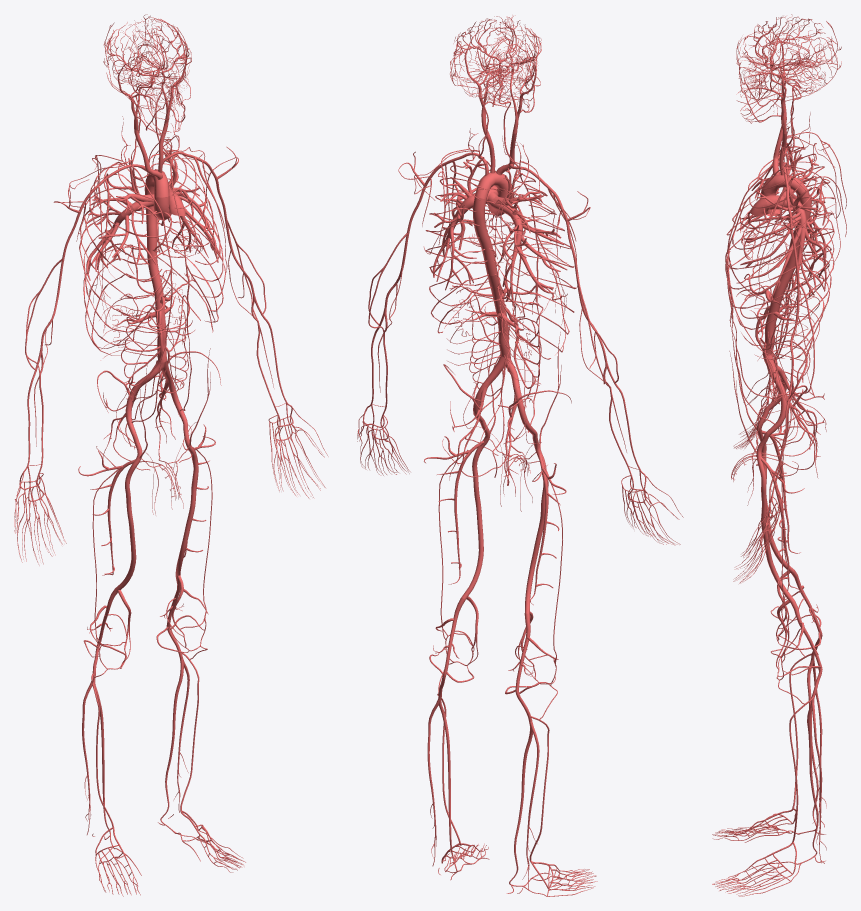
The model's file is arteries.glb.
3 views of the same model, side by side, from view 1: azimuth 30°, elevation 25°; view 2: azimuth 150°, elevation 25°; view 3: azimuth 270°, elevation 25° (orthographic). The views are drawn at different scales.
Visible parts, largest first — view 1: Posterior intercostal arteries.r.001, Posterior intercostal arteries.l.001, Femoral artery.r.001, Femoral artery.l.001, Abdominal aorta.001, Thoracic aorta.001; view 2: Posterior intercostal arteries.r.001, Posterior intercostal arteries.l.001, Femoral artery.l.001, Thoracic aorta.001, Femoral artery.r.001, Abdominal aorta.001; view 3: Posterior intercostal arteries.l.001, Femoral artery.l.001, Posterior intercostal arteries.r.001, Abdominal aorta.001, Femoral artery.r.001, Aortic arch.001, Posterior tibial artery.l.001, Brachial artery.l.001, Lateral basal segmental artery of left lung.001, Fibular artery.l.001, Posterior tibial artery.r.001, Proper palmar digital arteries.l.001 (+14 smaller).
Boxes of the visible parts, x1=… form: Posterior intercostal arteries.r.001: x1=79, y1=163, x2=169, y2=355; Posterior intercostal arteries.l.001: x1=146, y1=153, x2=225, y2=332; Femoral artery.r.001: x1=114, y1=432, x2=142, y2=592; Femoral artery.l.001: x1=175, y1=420, x2=198, y2=577; Abdominal aorta.001: x1=148, y1=263, x2=166, y2=362; Thoracic aorta.001: x1=144, y1=180, x2=157, y2=264; Posterior intercostal arteries.r.001: x1=478, y1=188, x2=576, y2=359; Posterior intercostal arteries.l.001: x1=425, y1=177, x2=513, y2=333; Femoral artery.l.001: x1=461, y1=419, x2=490, y2=599; Thoracic aorta.001: x1=473, y1=197, x2=497, y2=275; Femoral artery.r.001: x1=524, y1=432, x2=548, y2=613; Abdominal aorta.001: x1=487, y1=272, x2=510, y2=357; Posterior intercostal arteries.l.001: x1=726, y1=176, x2=834, y2=360; Femoral artery.l.001: x1=756, y1=432, x2=794, y2=602; Posterior intercostal arteries.r.001: x1=726, y1=153, x2=834, y2=309; Abdominal aorta.001: x1=762, y1=266, x2=794, y2=355; Femoral artery.r.001: x1=756, y1=407, x2=794, y2=573; Aortic arch.001: x1=762, y1=174, x2=807, y2=195; Posterior tibial artery.l.001: x1=801, y1=702, x2=818, y2=863; Brachial artery.l.001: x1=789, y1=217, x2=799, y2=375; Lateral basal segmental artery of left lung.001: x1=751, y1=225, x2=801, y2=299; Fibular artery.l.001: x1=811, y1=702, x2=826, y2=863; Posterior tibial artery.r.001: x1=801, y1=659, x2=818, y2=833; Proper palmar digital arteries.l.001: x1=733, y1=500, x2=771, y2=583.
Size of the model in its own units: 0.664 by 1.69 by 0.2445.
